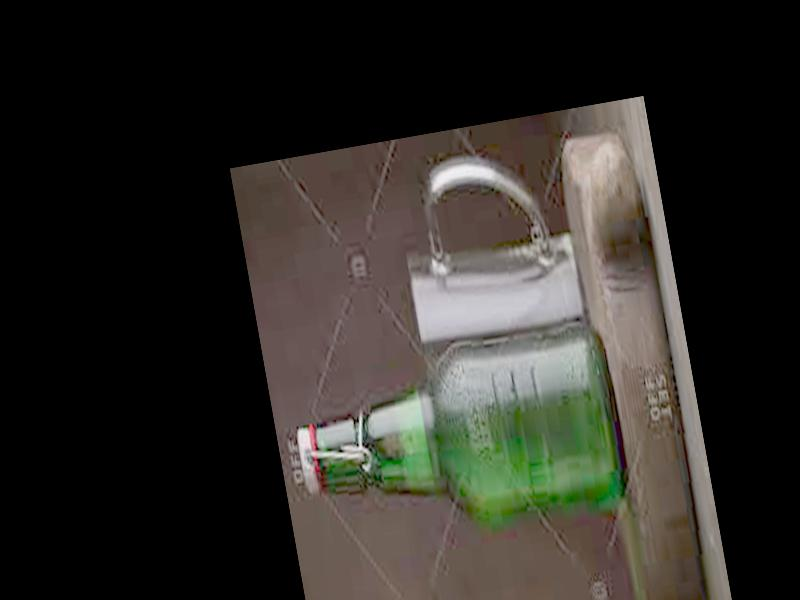Beer: (287, 323, 632, 553)
